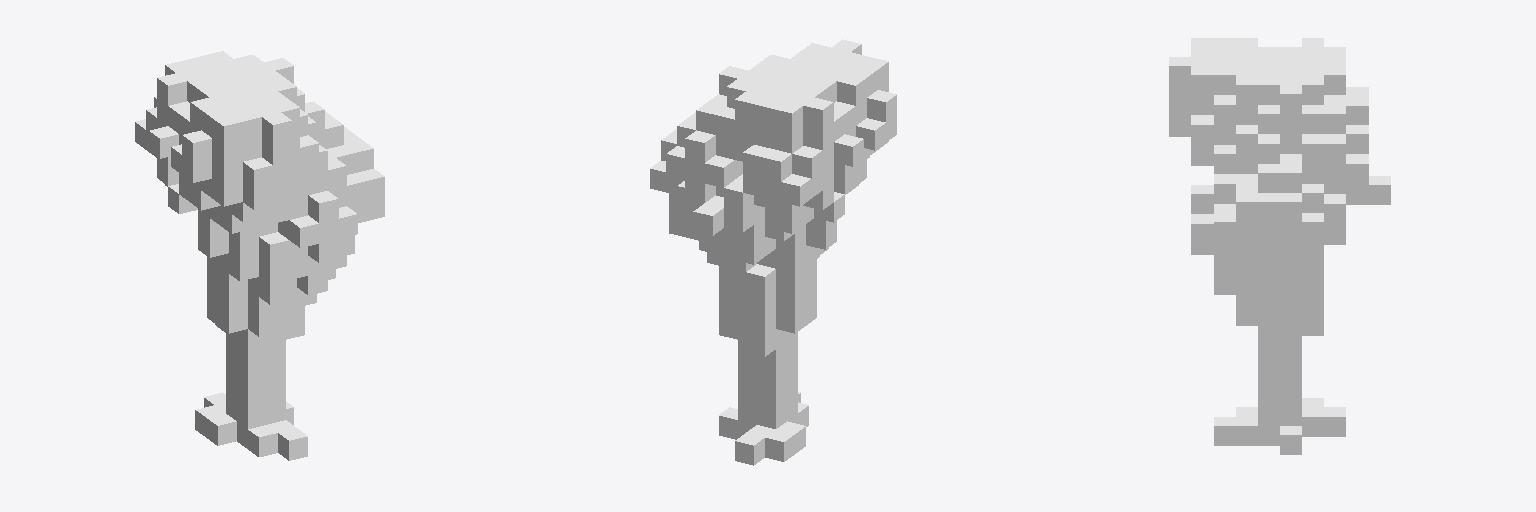
File: Tree2-1.obj
3 views of the same model, side by side, from view 1: azimuth 30°, elevation 25°; view 2: azimuth 150°, elevation 25°; view 3: azimuth 270°, elevation 25° (orthographic).
Parts seen in each view (by area): view 1: Tree2-1; view 2: Tree2-1; view 3: Tree2-1.
Boxes of the visible parts, box(x1,y1,x2,y2) form: Tree2-1: box(135, 51, 384, 460); Tree2-1: box(650, 39, 896, 465); Tree2-1: box(1169, 38, 1390, 454).
Bounding box in the file's own units: 10 × 18 × 10.